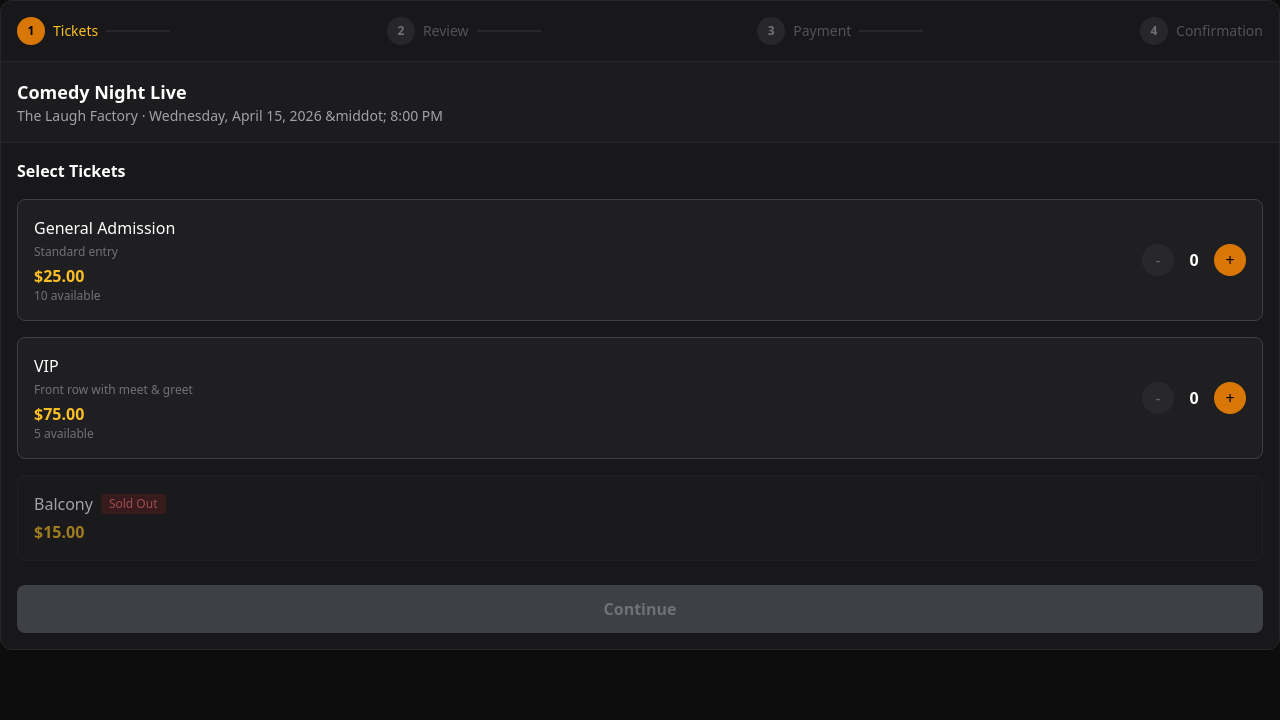
Scenario: CheckoutFlow › navigates to details step when Continue is clicked
This screenshot has width=1280, height=720.
Click the button "+" in the row of "Standard entry" at (1230, 260), box [1214,244,1246,276]
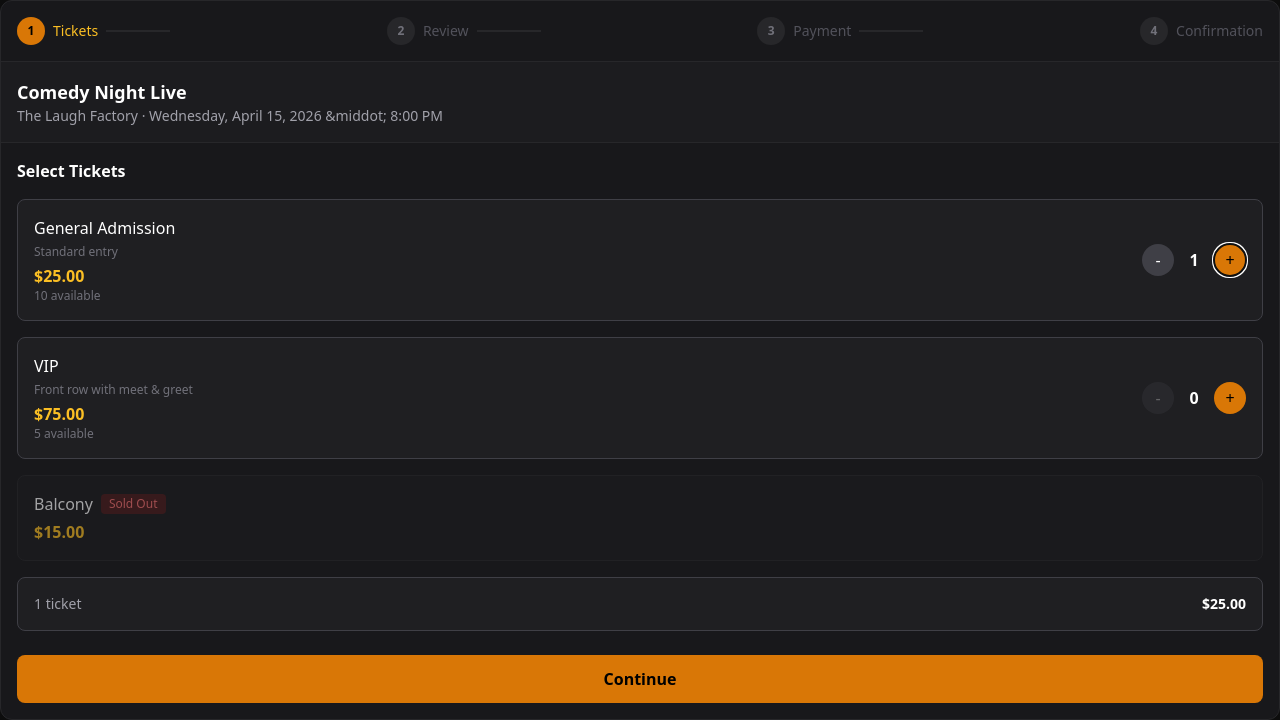
Click the button "Continue" at (640, 679), box [17,655,1263,703]
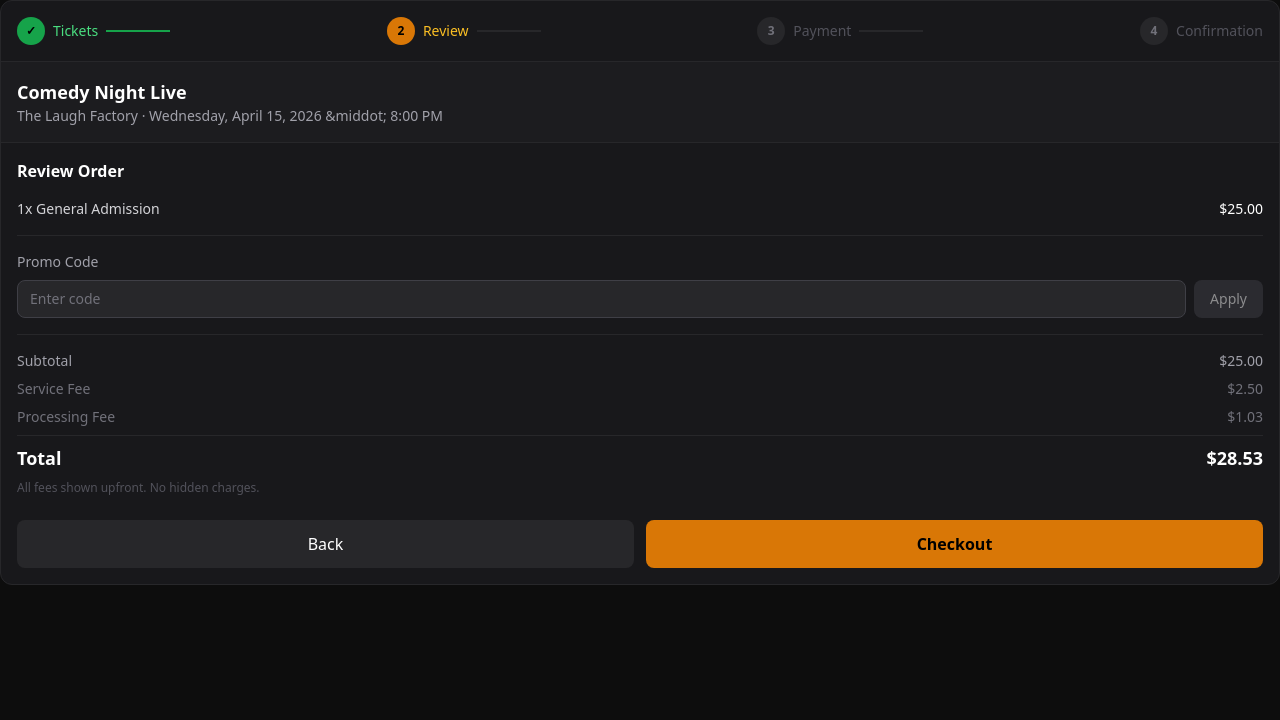
Expected: the heading "Review Order" is shown, [17,160,124,182]
